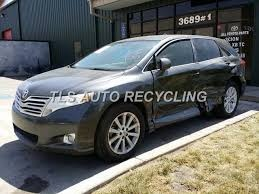Dent: (148, 67, 233, 129)
